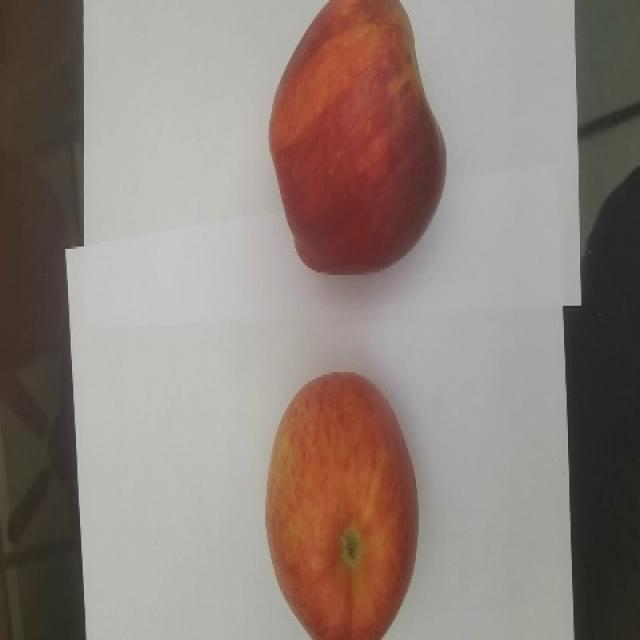Apple: (266, 2, 458, 276), (262, 368, 422, 640)
